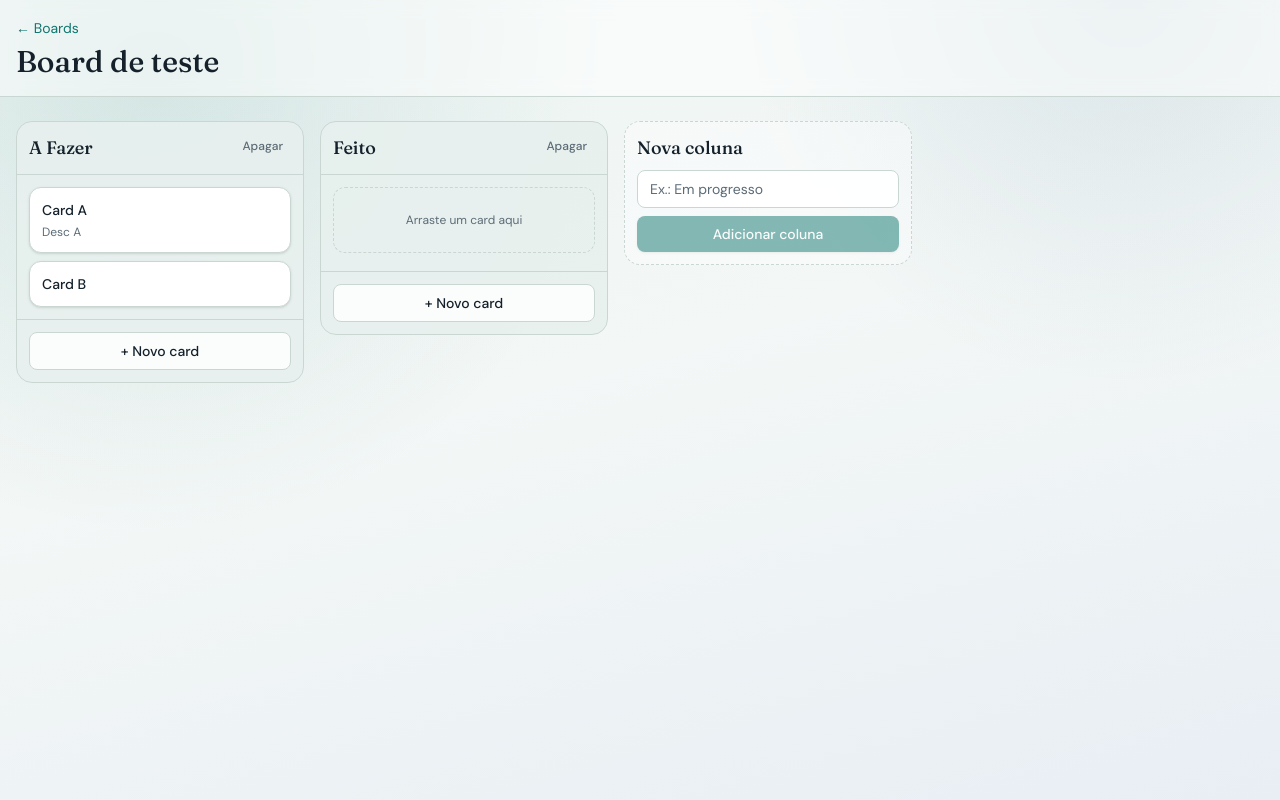
Test: BoardPage › edits a card in the modal
Click the button "Card A Desc A".
click(65, 210)  # box x1=29 y1=187 x2=291 y2=253
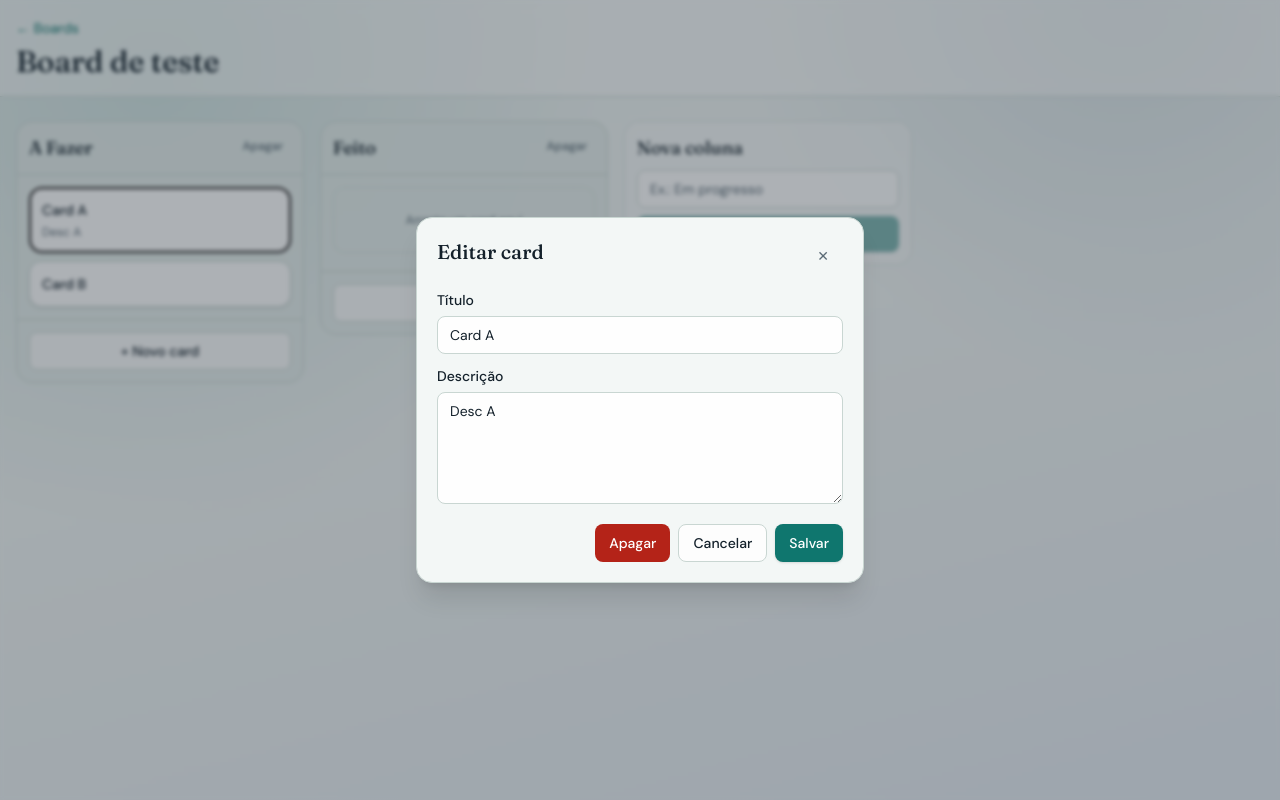
Replace the text in the field labelled "Título" with "Card atualizado" at (640, 335), box x1=437 y1=316 x2=843 y2=354
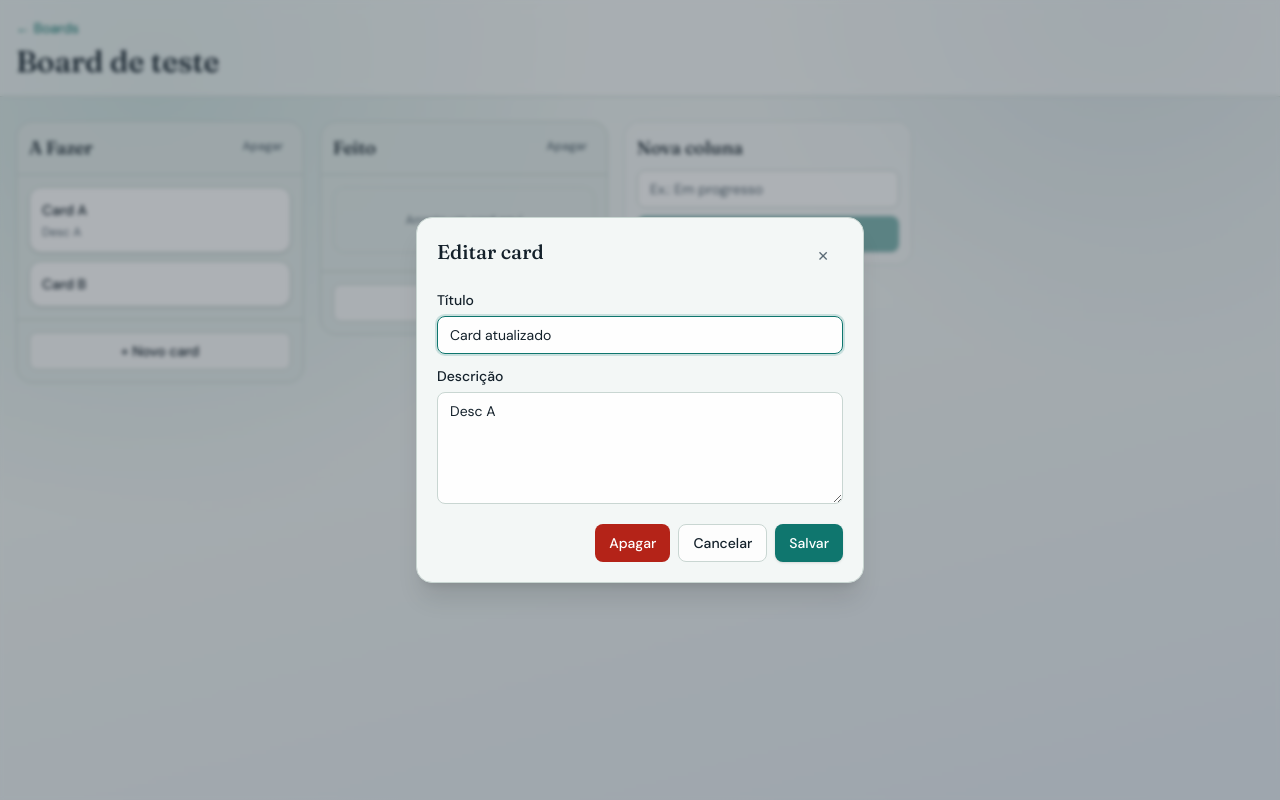
Click the button "Salvar".
click(809, 543)  # box x1=775 y1=524 x2=843 y2=562
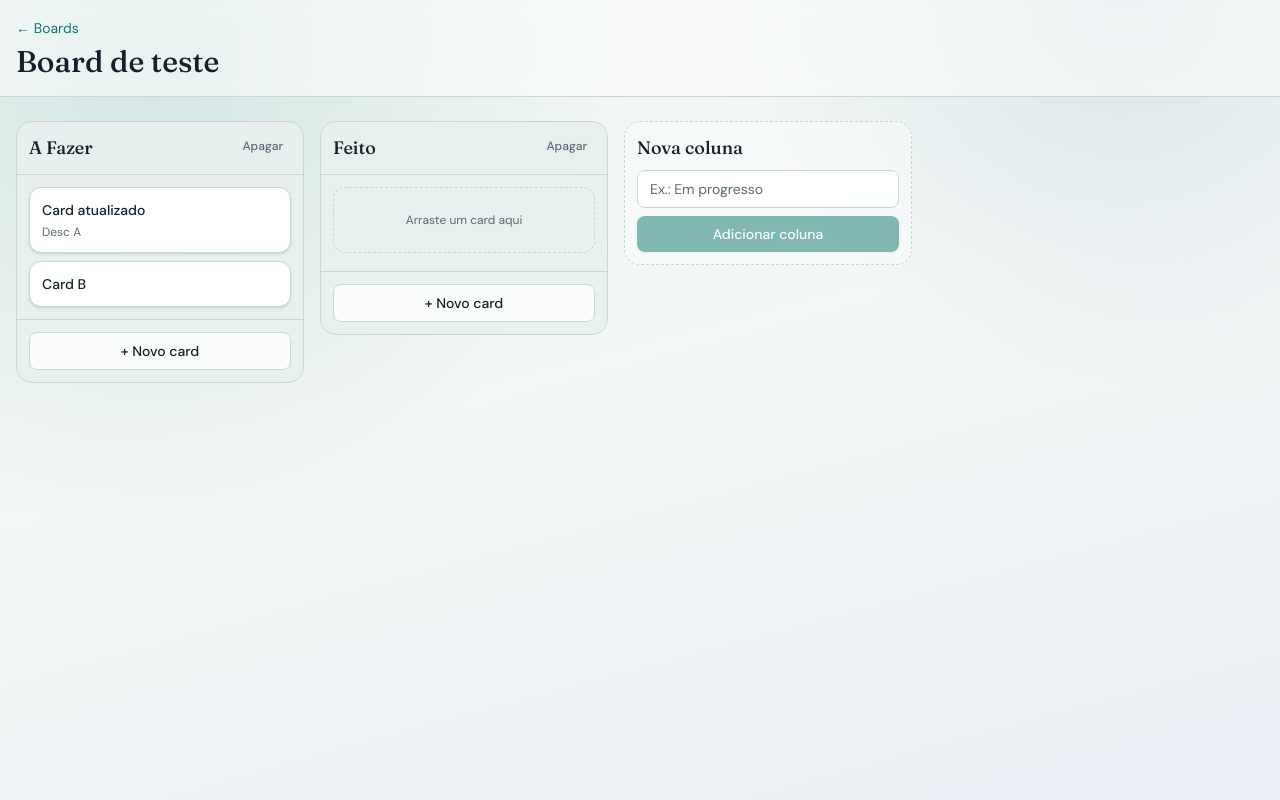
Expected: the button "Card atualizado Desc A" is shown, x1=29 y1=187 x2=291 y2=253
